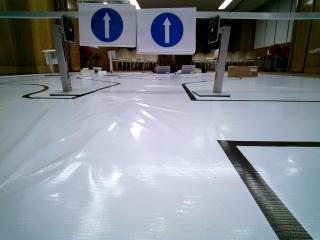straight: (138, 7, 195, 53), (81, 6, 136, 46)
